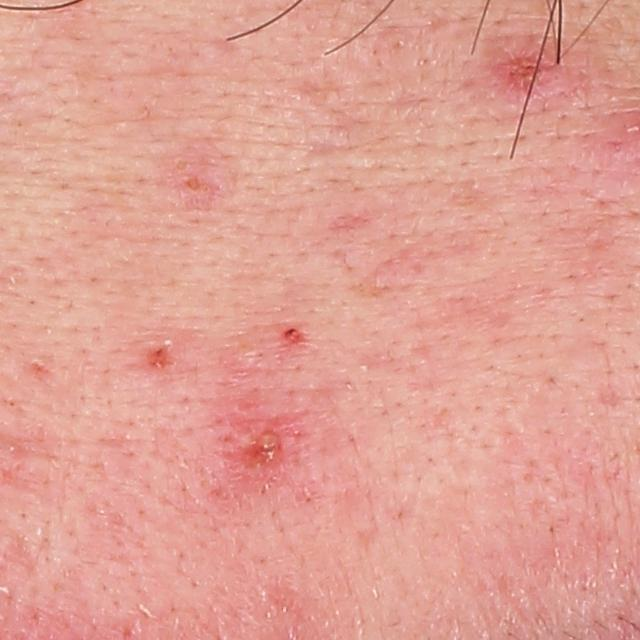papule: (488, 48, 560, 104), (176, 148, 221, 206), (142, 339, 179, 376), (274, 324, 310, 353)
pustule: (214, 407, 283, 474)
